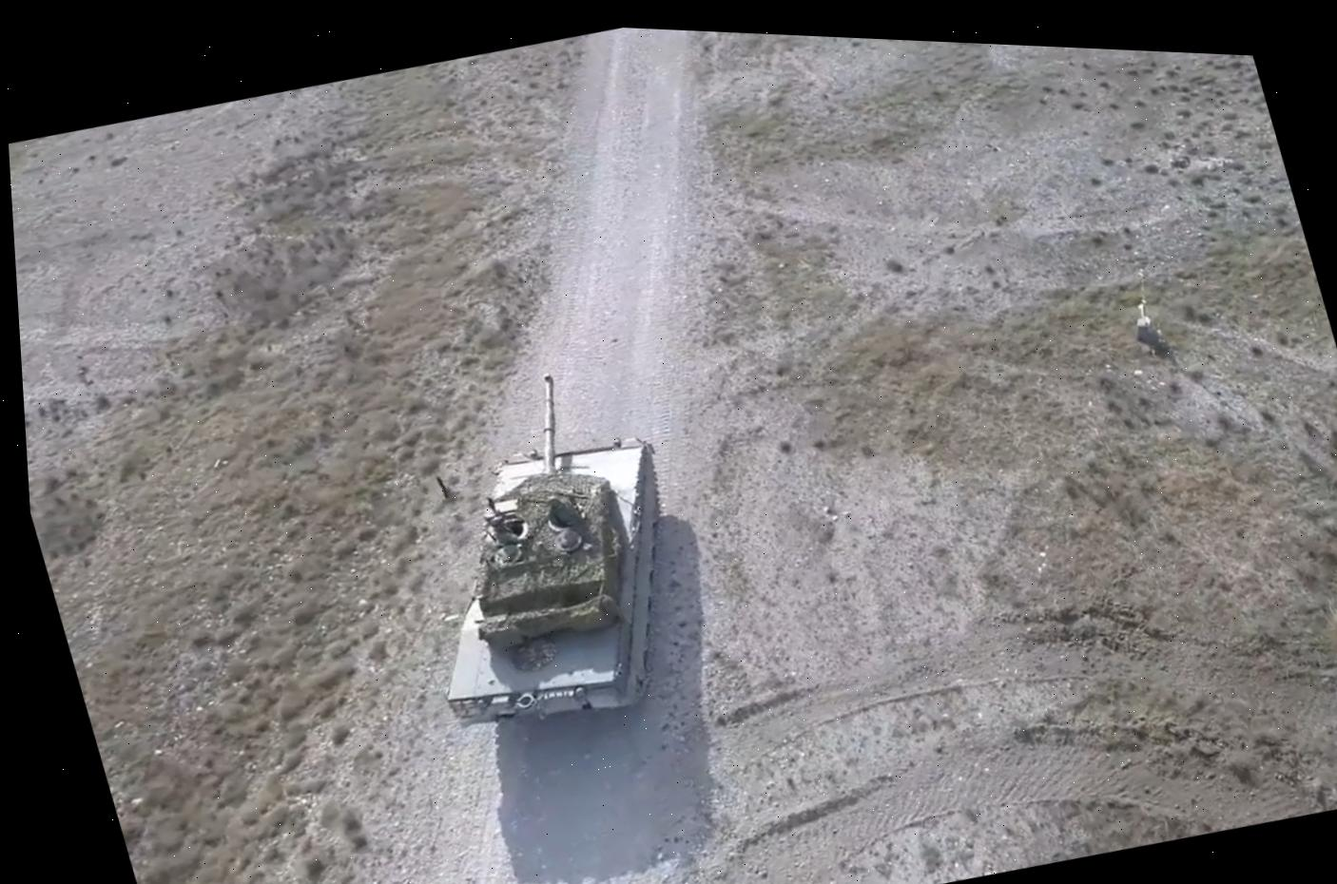tank: (356, 337, 728, 750)
